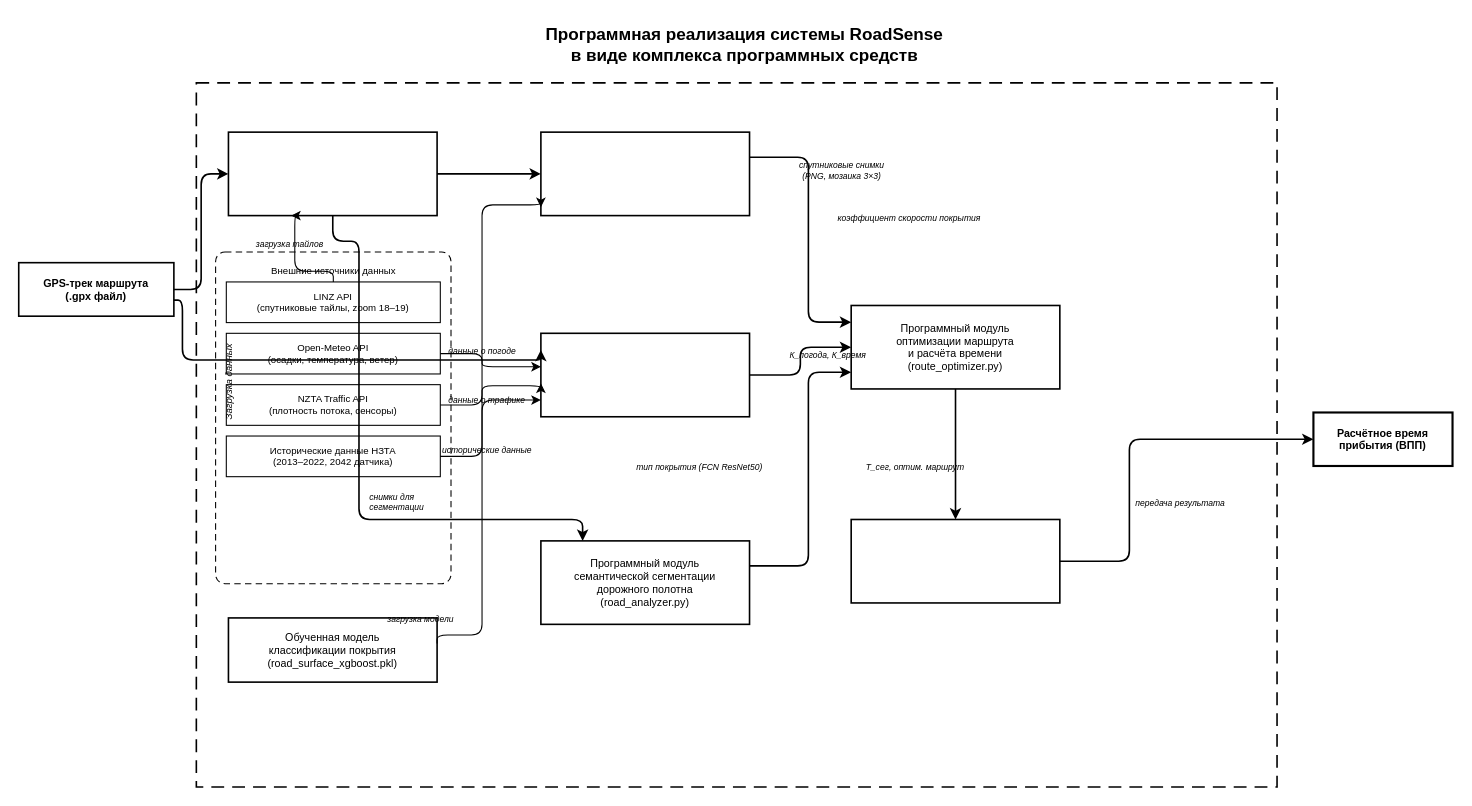
Image size: 1472x806. Some labels were removed from this diagram. The shapes that lost their labels are listed below. From the top down, each one's centre as x and y in pixels, then its label:
(x=332, y=173): Программный модуль загрузки спутниковых снимков (satellite_downloader.py)
(x=645, y=173): Программный модуль анализа дорожного покрытия (surface_analyzer.py)
(x=645, y=374): Программный модуль получения данных о погоде и трафике (traffic_weather_api.py)
(x=955, y=560): Программный модуль главного конвейера обработки (main_pipeline.py)
